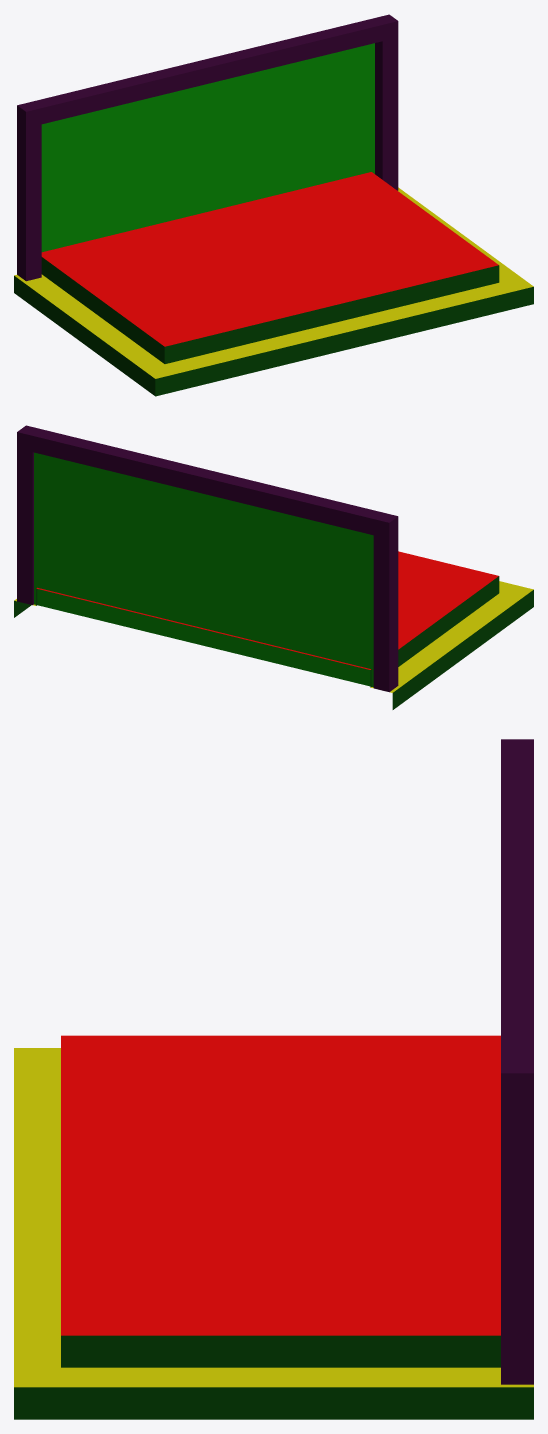
The model's file is stage.FBX.
The picture shows the model from 3 angles, top to bottom: view 1: azimuth 30°, elevation 25°; view 2: azimuth 150°, elevation 25°; view 3: azimuth 270°, elevation 25°; orthographic projection. The views are drawn at different scales.
Visible parts, largest first — view 1: stage; view 2: stage; view 3: stage.
Boxes of the visible parts, x1,y1,x2,y2 form: stage: (14,14,533,396); stage: (14,425,533,709); stage: (14,739,533,1419).
Size of the model in its own units: 1698 by 801 by 1099.
